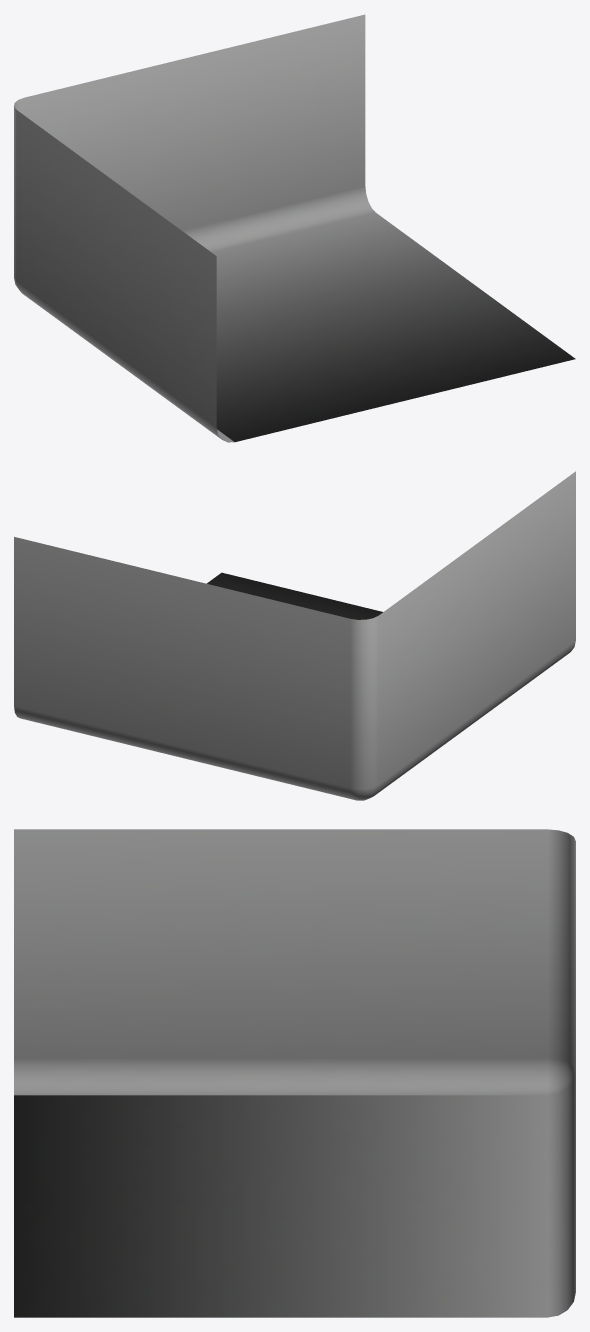
File: SM_Fond_001 1.fbx
The picture shows the model from 3 angles, top to bottom: view 1: azimuth 30°, elevation 25°; view 2: azimuth 150°, elevation 25°; view 3: azimuth 270°, elevation 25°; orthographic projection. The views are drawn at different scales.
Parts seen in each view (by area): view 1: pCube1; view 2: pCube1; view 3: pCube1.
Part boxes in pixels (box(x1,y1,x2,y2)): pCube1: box(14, 14, 575, 442); pCube1: box(14, 471, 575, 800); pCube1: box(14, 829, 575, 1317).
Bounding box in the file's own units: 1312 × 665 × 1332.
